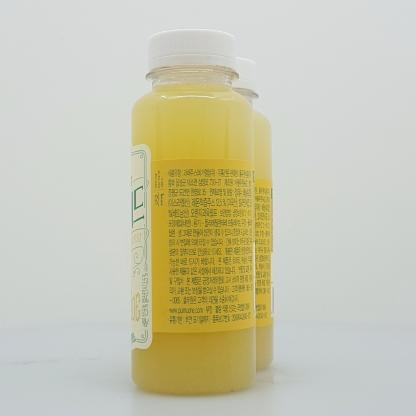----------------270ML: (130, 28, 255, 396)
